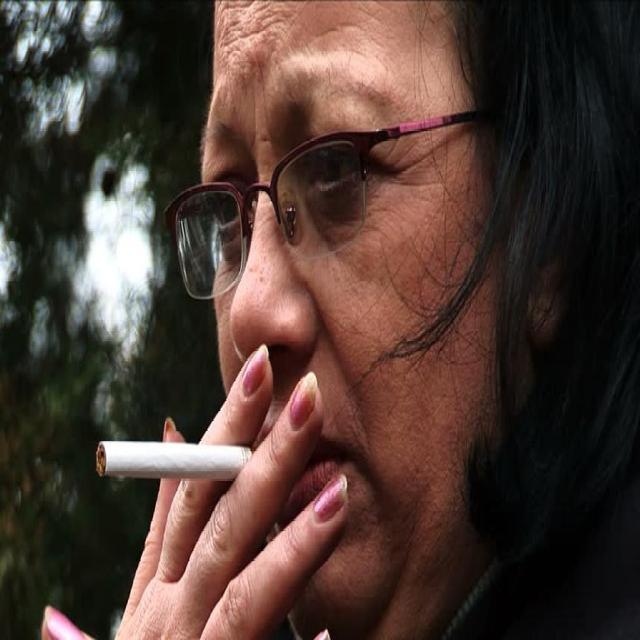smoking: (89, 0, 514, 640)
